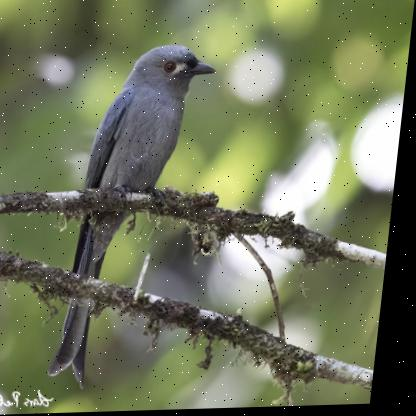Burung: (53, 45, 220, 391)
